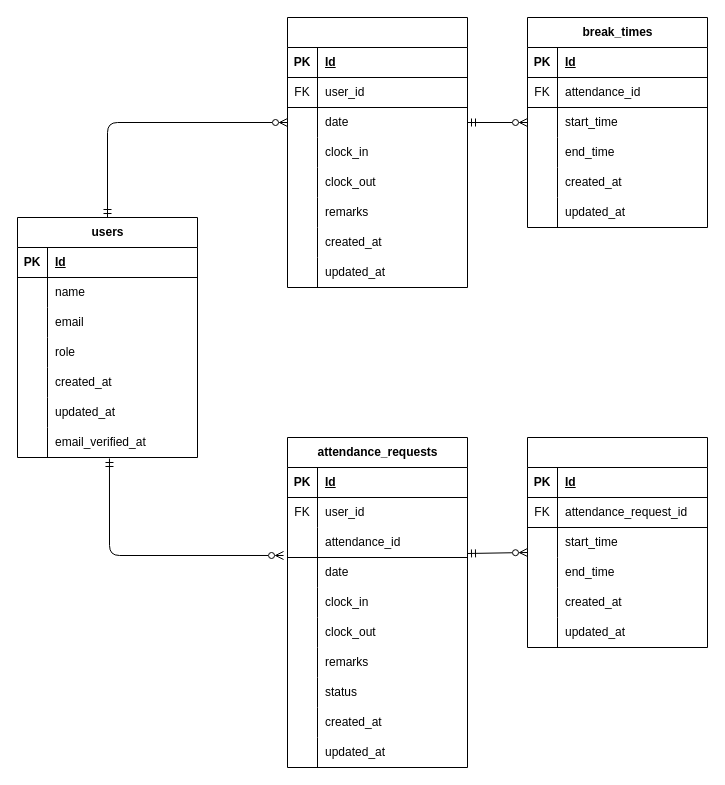
The diagram is 725 pixels wide and 785 high, and some of its shapes have lost their labels. Each missing label, with the box of its shape:
attendances: (286, 16, 468, 288)
break_time_requests: (526, 436, 708, 648)
